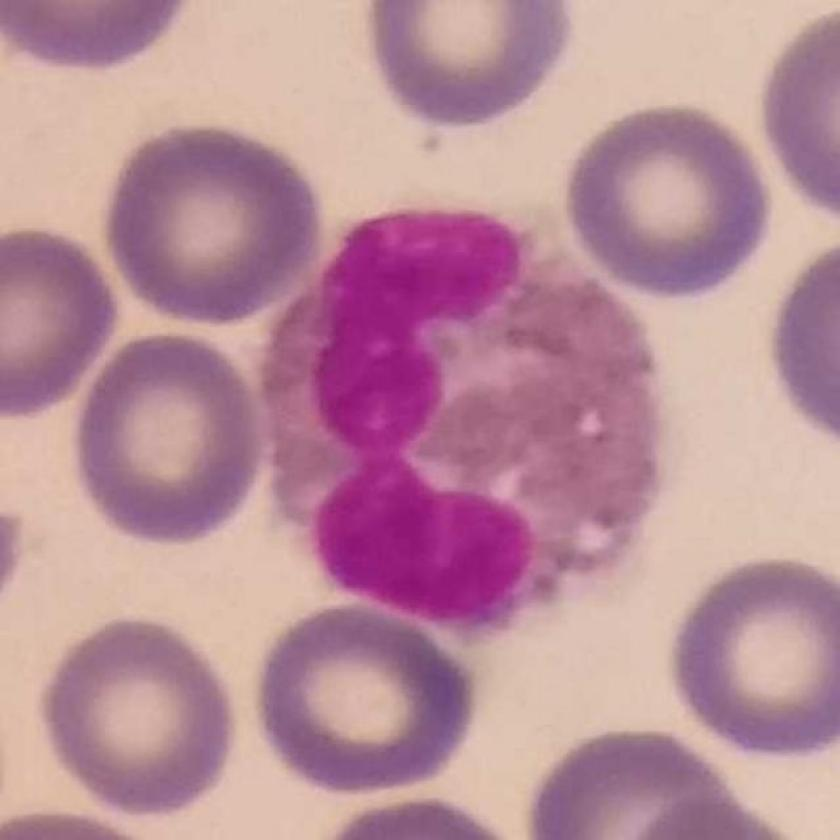eosinophil: (256, 202, 674, 643)
